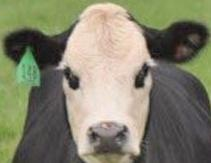muzzles: (75, 119, 140, 162)
